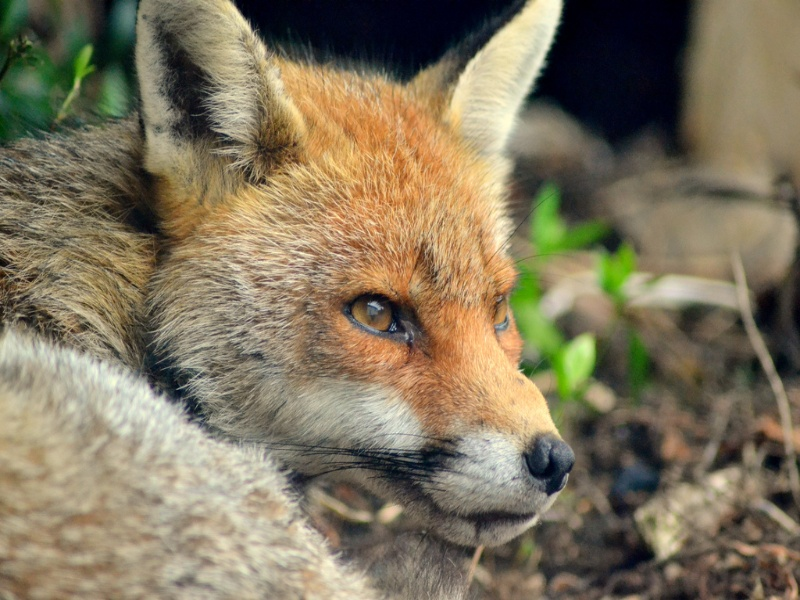fox: (1, 1, 572, 551)
